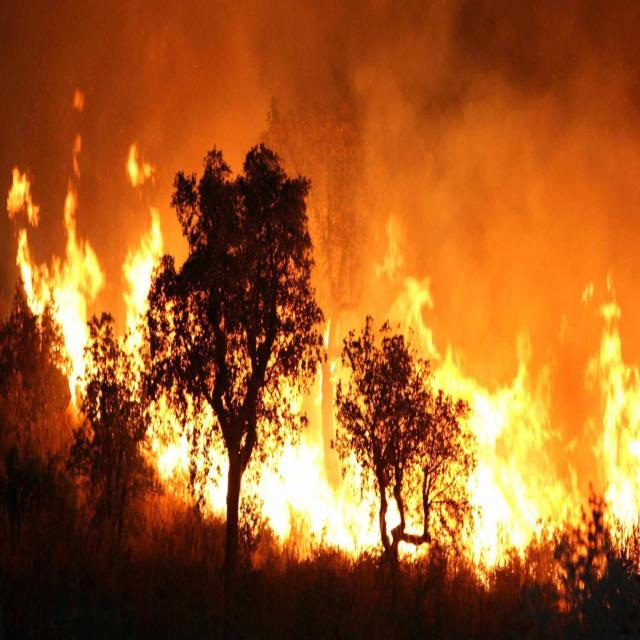Fire: (8, 104, 640, 565)
